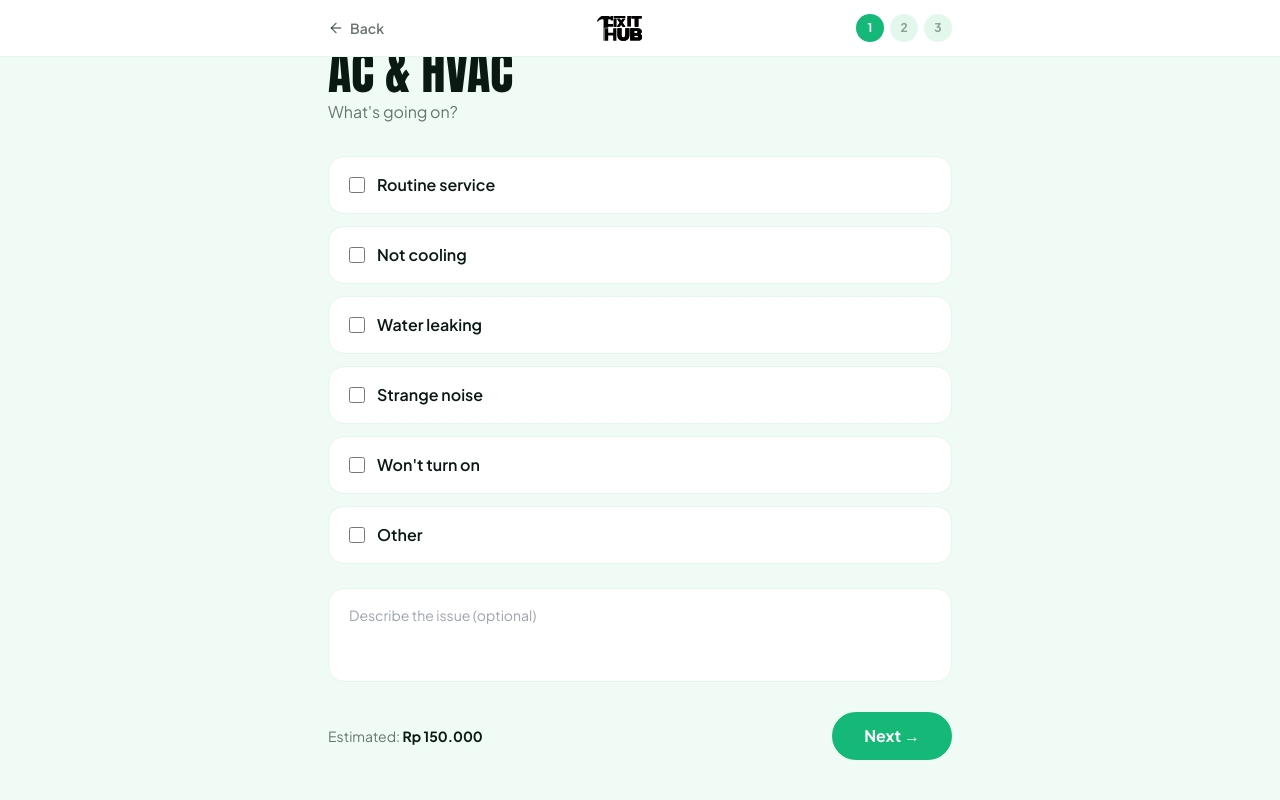
Test: Booking — Step 1 › advances to step 2 when Next is clicked
(page scrolled)
Step 1. Click the button "Next →" → (892, 736), box x1=832 y1=712 x2=952 y2=760
(page scrolled)
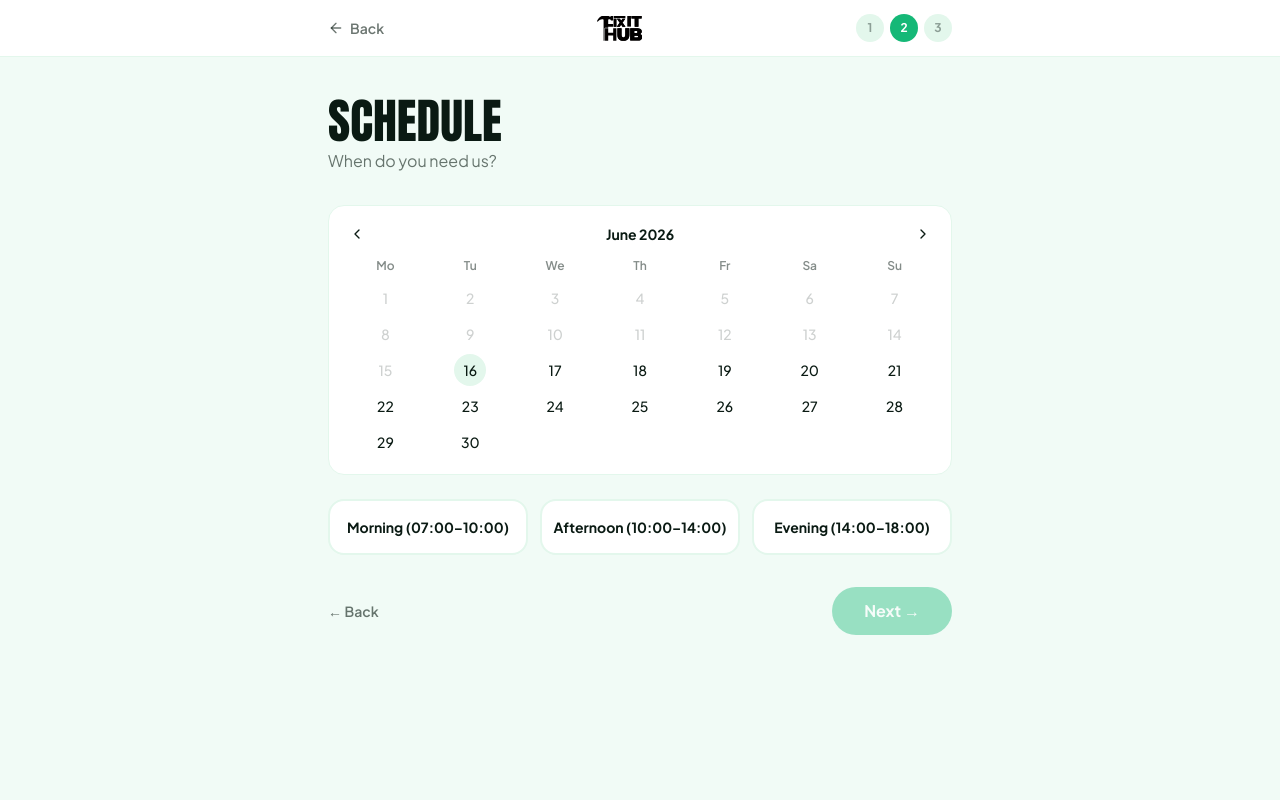
Expected: the heading "Schedule" is shown, x1=328 y1=85 x2=502 y2=157
